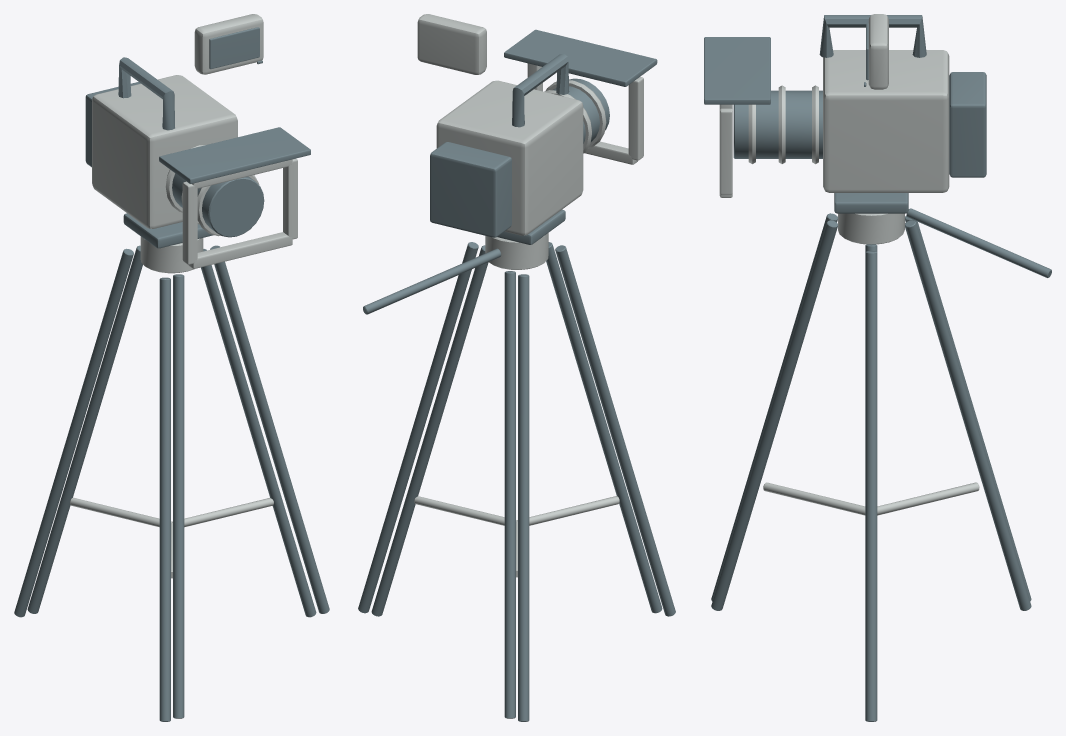
Rendered from cinema-camera.glb.
The picture shows the model from 3 angles, left to right: view 1: azimuth 30°, elevation 25°; view 2: azimuth 150°, elevation 25°; view 3: azimuth 270°, elevation 25°; orthographic projection. The views are drawn at different scales.
Parts seen in each view (by area): view 1: cinema_body, tripod_twin_leg.002, tripod_twin_leg.003, matte_box_top, tripod_twin_leg.004, tripod_twin_leg.005, tripod_twin_leg.001, tripod_twin_leg, cine_lens, camera_monitor_housing, camera_monitor_screen, top_handle (+9 smaller); view 2: cinema_body, rear_battery, tripod_twin_leg.004, tripod_twin_leg.005, tripod_twin_leg.002, tripod_twin_leg.003, tripod_twin_leg.001, tripod_twin_leg, matte_box_top, camera_monitor_housing, fluid_head, top_handle (+8 smaller); view 3: cinema_body, tripod_twin_leg.001, tripod_twin_leg.003, tripod_twin_leg.005, matte_box_top, cine_lens, rear_battery, fluid_head, top_handle, pan_handle, quick_release, camera_monitor_housing (+6 smaller).
Boxes of the visible parts, left/top/right/bottom form: cinema_body: left=92, top=75, right=237, bottom=228; tripod_twin_leg.002: left=159, top=277, right=170, bottom=721; tripod_twin_leg.003: left=173, top=274, right=184, bottom=718; matte_box_top: left=159, top=127, right=310, bottom=183; tripod_twin_leg.004: left=14, top=248, right=133, bottom=617; tripod_twin_leg.005: left=27, top=245, right=142, bottom=613; tripod_twin_leg.001: left=210, top=245, right=329, bottom=613; tripod_twin_leg: left=201, top=249, right=316, bottom=617; cine_lens: left=172, top=173, right=264, bottom=237; camera_monitor_housing: left=194, top=14, right=263, bottom=74; camera_monitor_screen: left=209, top=27, right=259, bottom=69; top_handle: left=118, top=57, right=174, bottom=130; cinema_body: left=436, top=80, right=583, bottom=235; rear_battery: left=430, top=142, right=511, bottom=237; tripod_twin_leg.004: left=518, top=274, right=529, bottom=721; tripod_twin_leg.005: left=504, top=271, right=515, bottom=718; tripod_twin_leg.002: left=555, top=245, right=675, bottom=616; tripod_twin_leg.003: left=546, top=242, right=662, bottom=613; tripod_twin_leg.001: left=358, top=242, right=478, bottom=613; tripod_twin_leg: left=371, top=245, right=488, bottom=616; matte_box_top: left=504, top=29, right=657, bottom=86; camera_monitor_housing: left=417, top=14, right=486, bottom=74; fluid_head: left=485, top=233, right=548, bottom=269; top_handle: left=512, top=53, right=569, bottom=127; cinema_body: left=823, top=50, right=949, bottom=192; tripod_twin_leg.001: left=865, top=251, right=877, bottom=721; tripod_twin_leg.003: left=711, top=220, right=837, bottom=610; tripod_twin_leg.005: left=905, top=220, right=1031, bottom=610; matte_box_top: left=704, top=37, right=770, bottom=104; cine_lens: left=733, top=90, right=822, bottom=158; rear_battery: left=949, top=72, right=986, bottom=177; fluid_head: left=838, top=213, right=904, bottom=244; top_handle: left=819, top=15, right=926, bottom=57; pan_handle: left=906, top=208, right=1051, bottom=277; quick_release: left=834, top=193, right=908, bottom=213; camera_monitor_housing: left=868, top=14, right=888, bottom=89.
Size of the model in its own units: 0.7943 by 1.92 by 0.9356.
